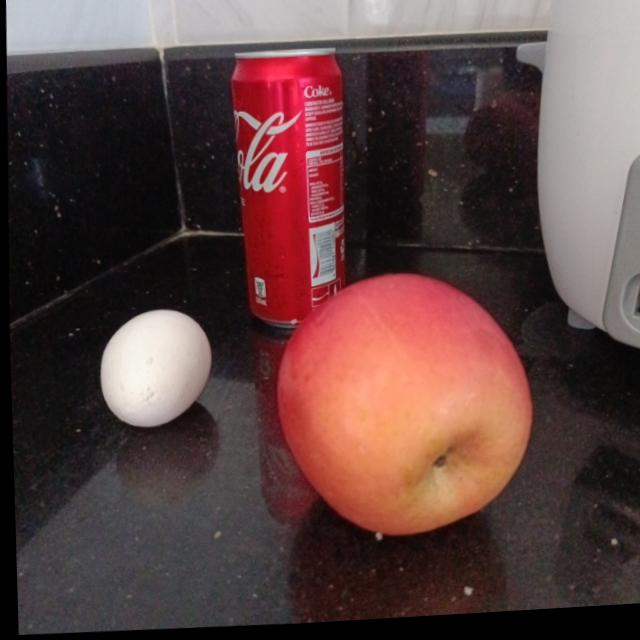apple: (270, 272, 532, 547)
coke: (226, 49, 349, 335)
egg: (94, 307, 209, 428)
